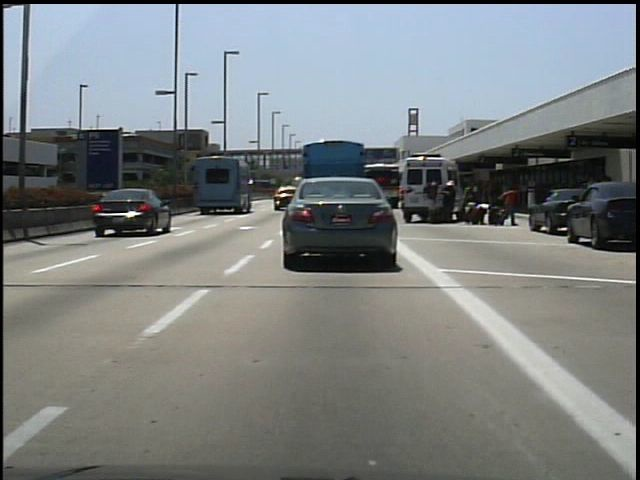person: (440, 175, 462, 226), (421, 173, 442, 224), (475, 178, 497, 226), (501, 181, 522, 229)
